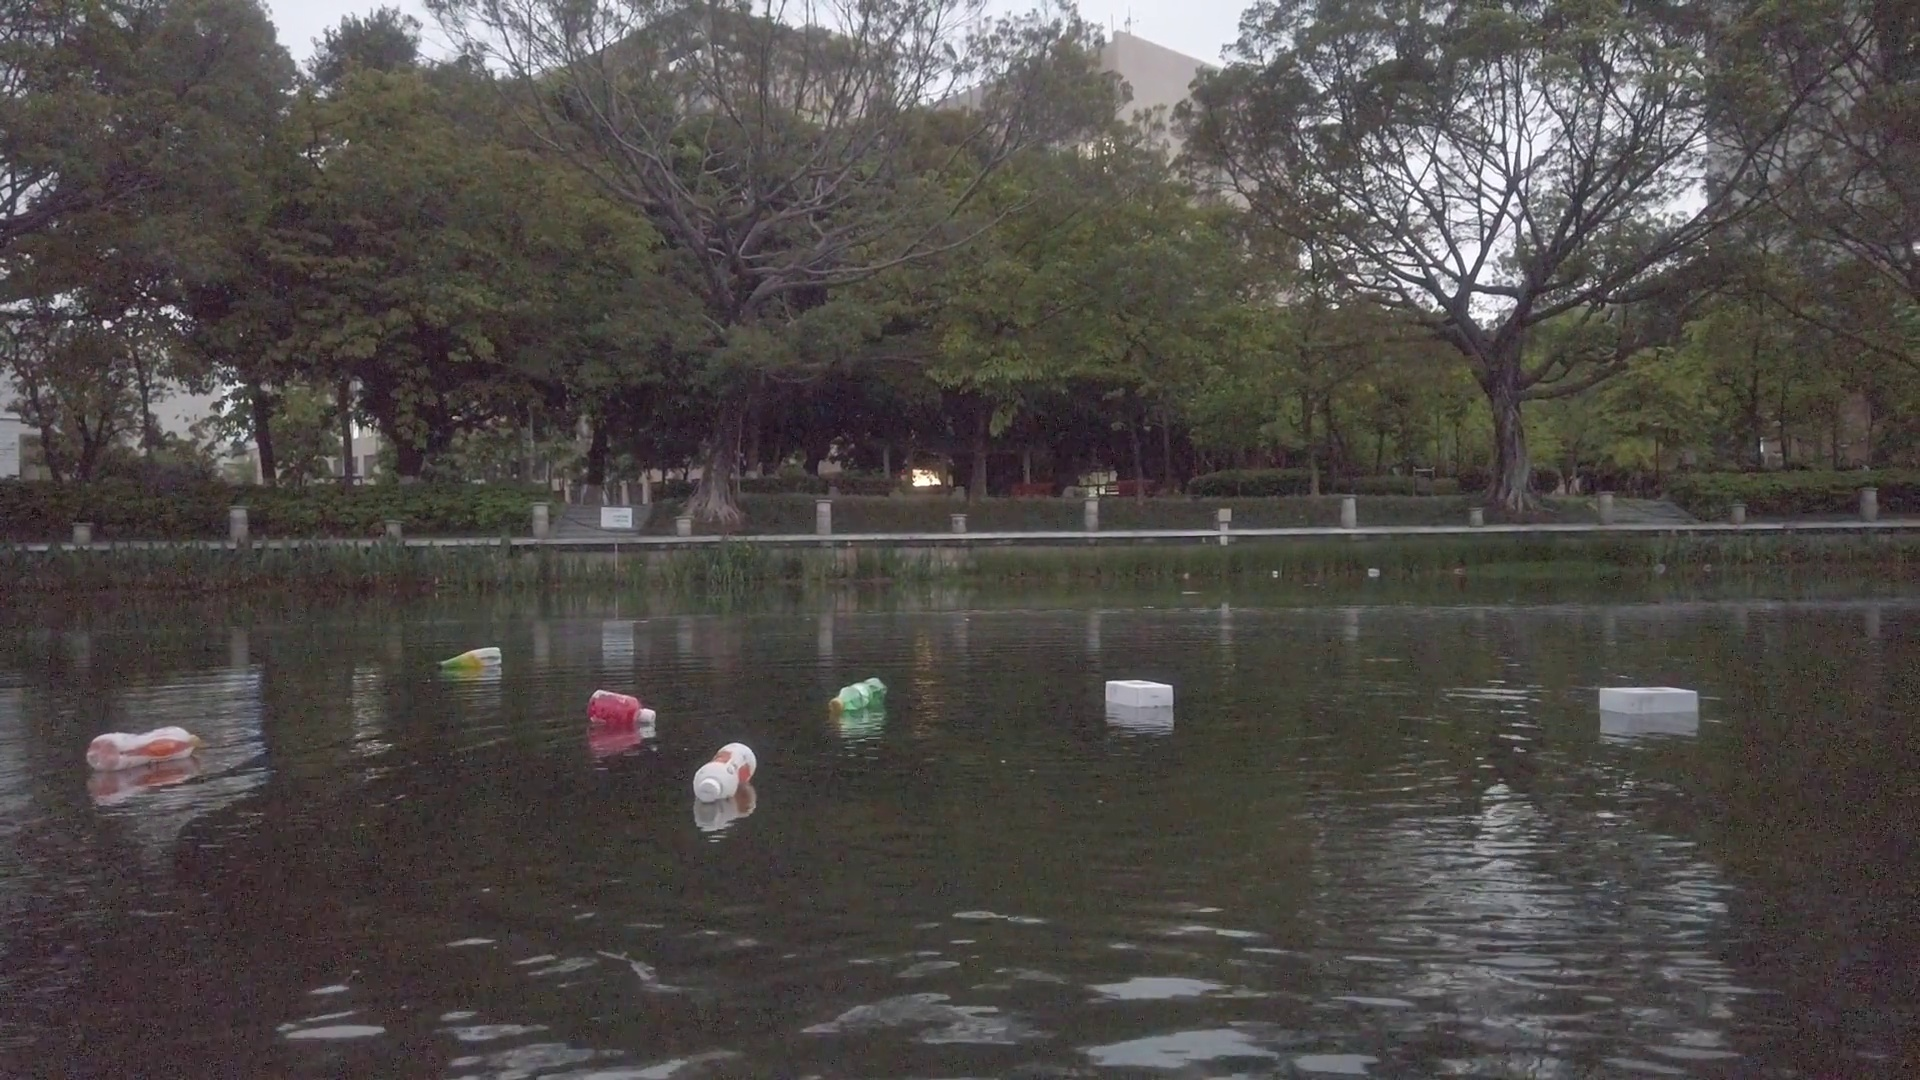bottle: (84, 727, 200, 769), (688, 742, 758, 800), (585, 684, 655, 729), (829, 676, 887, 716), (436, 646, 501, 669)
carton: (1601, 684, 1698, 716), (1101, 676, 1175, 712), (1367, 566, 1378, 576)
